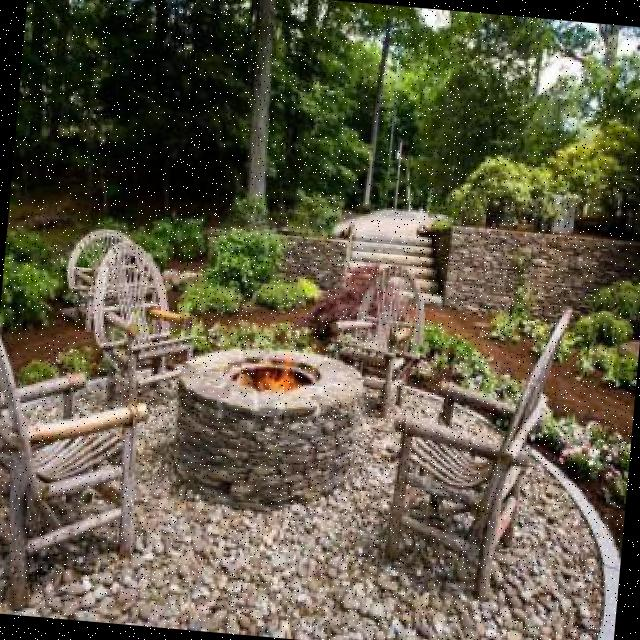fire: (238, 362, 301, 403)
